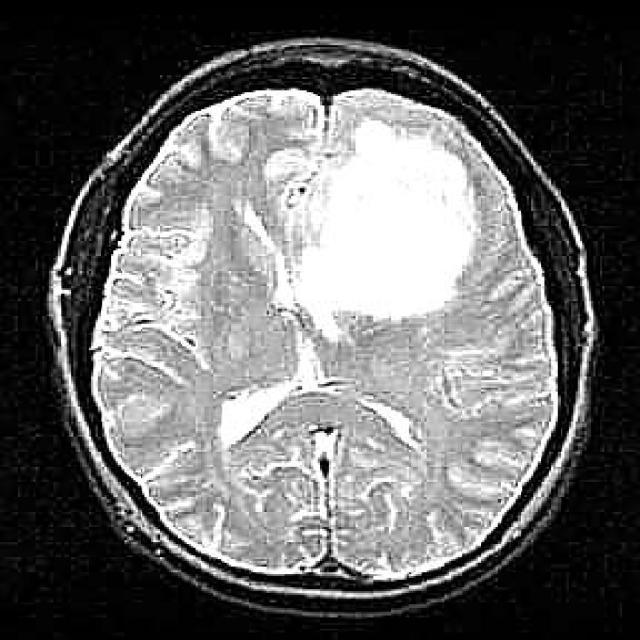Tumor: (290, 110, 485, 328)
